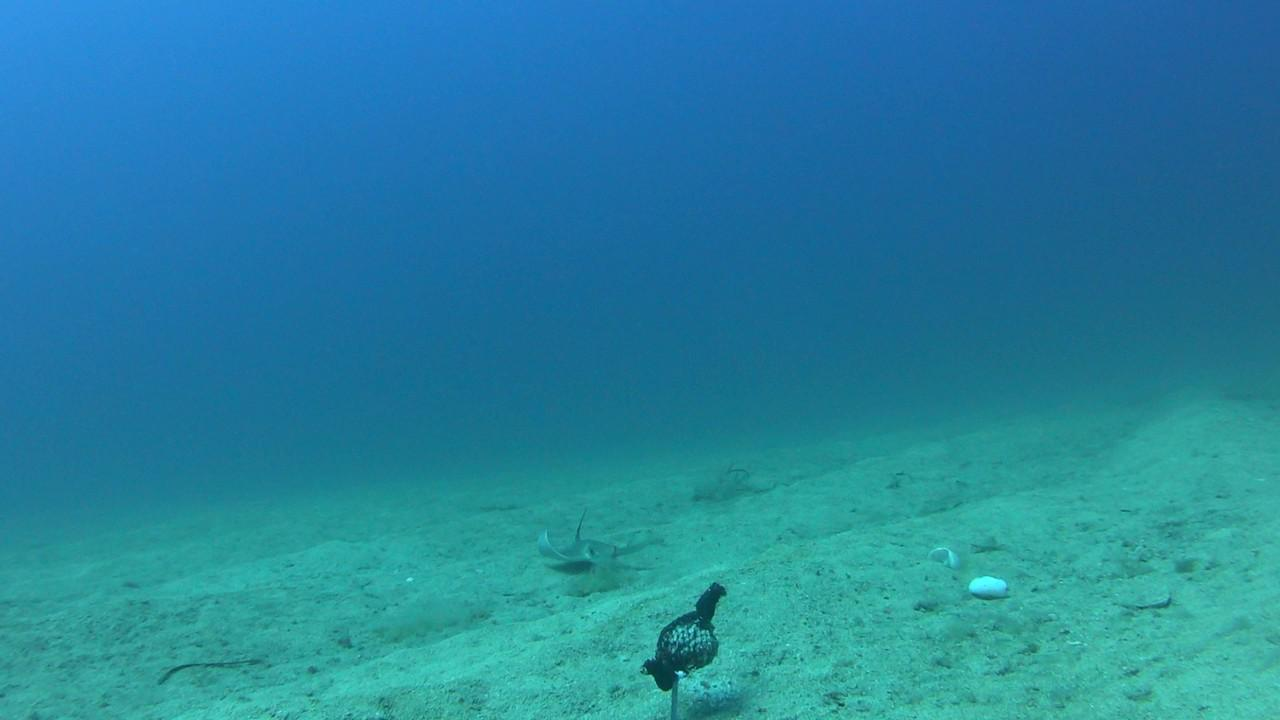myliobatis: (532, 490, 667, 583)
